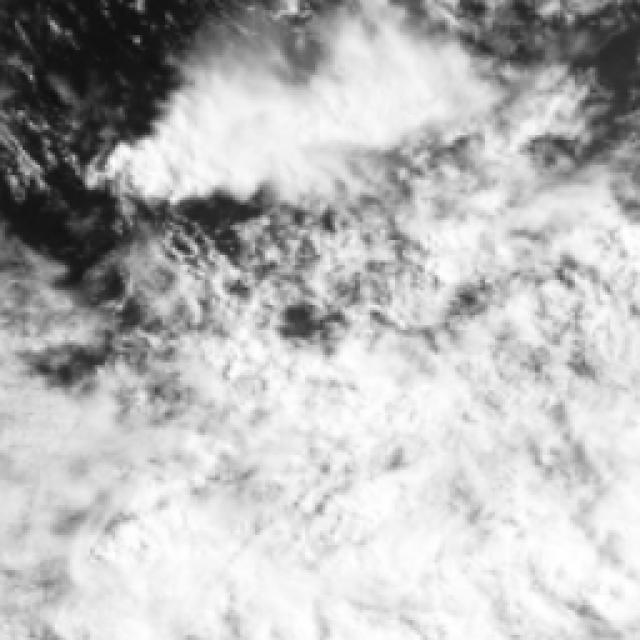CB: (156, 508, 573, 632)
